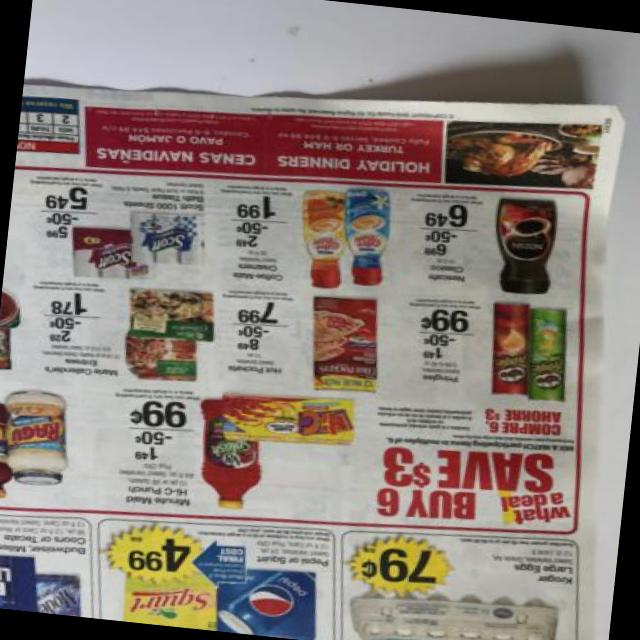bottle: (201, 398, 261, 508), (5, 391, 67, 484), (496, 198, 556, 293), (345, 187, 391, 285), (303, 190, 347, 287), (527, 307, 567, 401), (492, 302, 530, 393), (0, 403, 12, 496)
